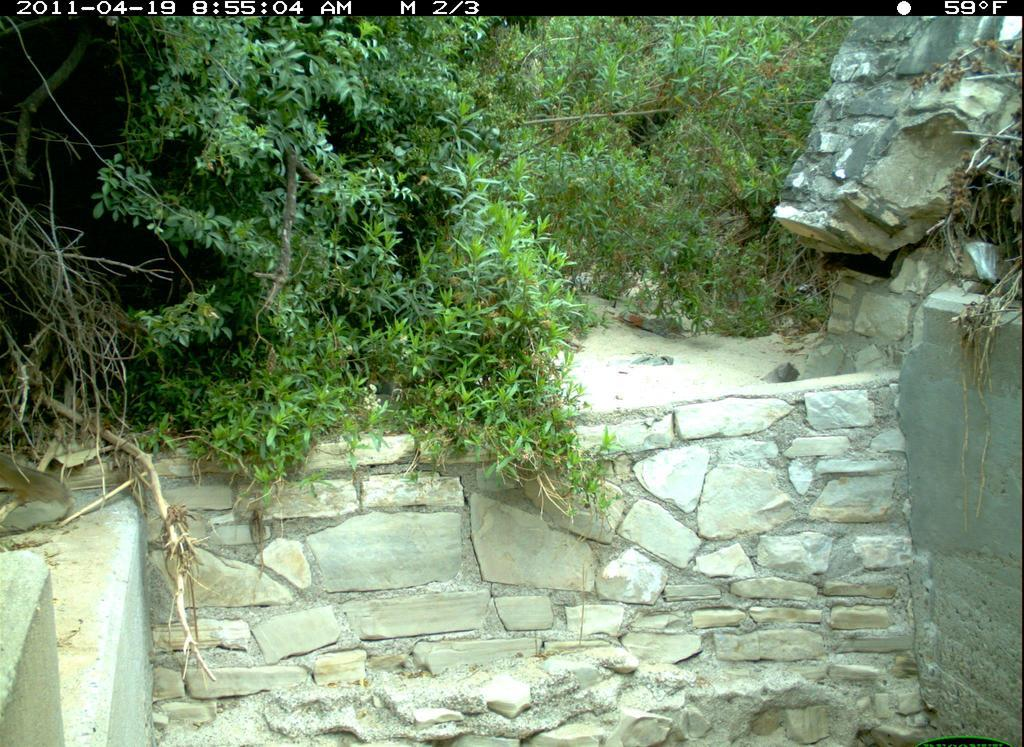squirrel: (4, 437, 80, 521)
